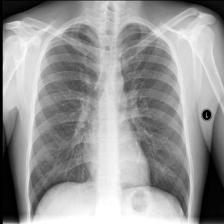normal: (19, 15, 197, 223)
